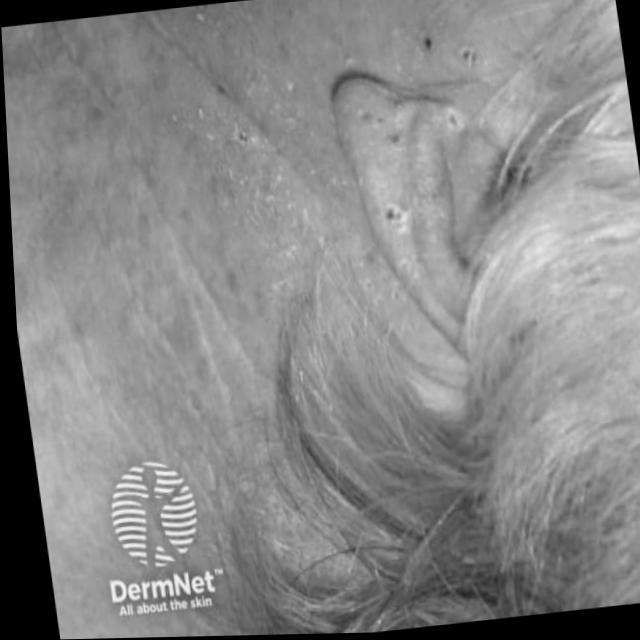Eczema: (151, 0, 441, 346)
